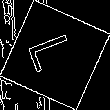L_E: (26, 31, 84, 79)
